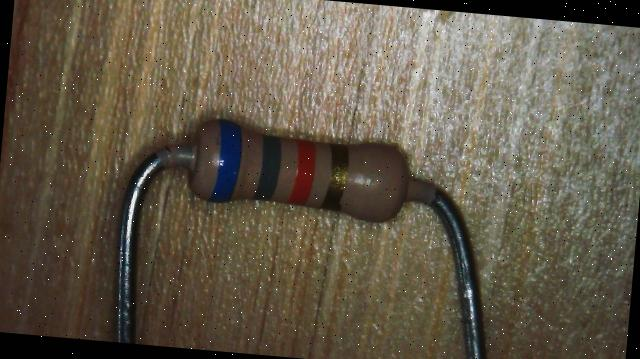blue: (208, 120, 246, 204)
gold: (323, 144, 350, 212)
grey: (254, 134, 282, 202)
orange: (288, 140, 318, 206)
resistor: (166, 96, 451, 245)
